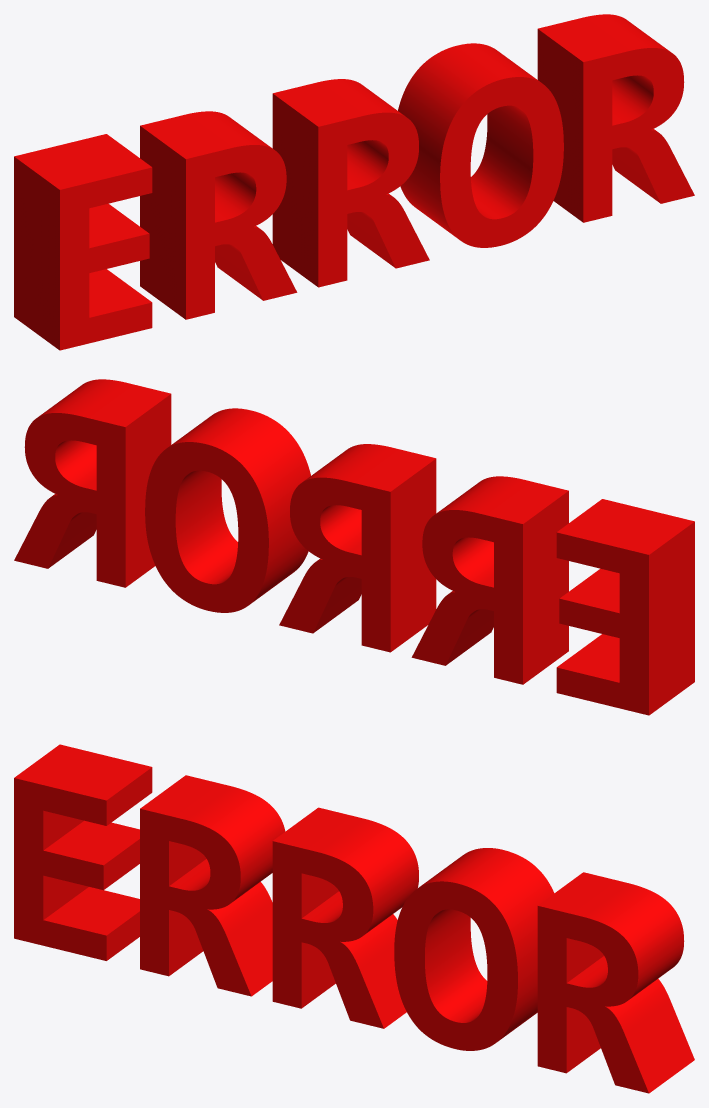
Rendered from error.gltf.
3 views of the same model, one above another, from view 1: azimuth 30°, elevation 25°; view 2: azimuth 150°, elevation 25°; view 3: azimuth 330°, elevation 25° (orthographic).
Visible parts, largest first — view 1: ERROR; view 2: ERROR; view 3: ERROR.
Boxes of the visible parts, <box> form: ERROR: <box>14,14,694,350</box>; ERROR: <box>14,379,694,715</box>; ERROR: <box>14,744,694,1093</box>.
Bounding box in the file's own units: 2 × 0.5 × 0.25.
